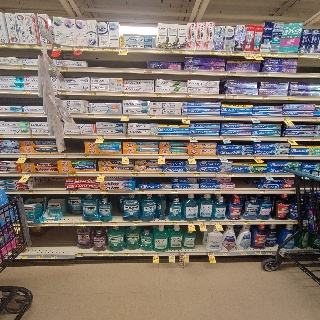All PRICE TAGS: (259, 73, 270, 77), (68, 172, 78, 176), (17, 255, 27, 259), (243, 51, 251, 56), (232, 51, 240, 56), (5, 44, 15, 48), (69, 190, 78, 194), (29, 134, 38, 138), (19, 113, 28, 117), (28, 44, 37, 48), (18, 44, 27, 48), (86, 47, 95, 51), (121, 92, 130, 96), (124, 135, 133, 139), (61, 67, 68, 72), (107, 252, 115, 256), (187, 221, 195, 225), (158, 172, 166, 176), (131, 172, 139, 176), (98, 172, 106, 176), (187, 155, 195, 159), (222, 136, 230, 140), (286, 96, 294, 100), (230, 95, 238, 99), (154, 93, 162, 97), (23, 90, 31, 94), (15, 65, 23, 69), (297, 54, 305, 58), (252, 52, 260, 56), (178, 50, 186, 54), (67, 46, 75, 50), (99, 47, 107, 51), (188, 70, 196, 74), (89, 91, 97, 95), (88, 114, 96, 118), (189, 136, 197, 140), (138, 252, 145, 256), (137, 190, 144, 194), (207, 252, 214, 256), (255, 251, 262, 255), (265, 251, 272, 255), (111, 222, 118, 226), (50, 255, 57, 259), (28, 190, 35, 194), (101, 190, 108, 194), (227, 173, 234, 177), (21, 153, 28, 157), (219, 155, 226, 159), (251, 136, 258, 140), (122, 115, 129, 119), (149, 115, 156, 119), (224, 116, 231, 120), (283, 117, 290, 121), (251, 116, 258, 120), (261, 95, 268, 99), (60, 91, 67, 95), (230, 72, 237, 76), (260, 52, 267, 56), (280, 53, 287, 57), (271, 53, 278, 57), (156, 49, 163, 53), (222, 51, 229, 55), (64, 134, 71, 138), (156, 135, 163, 139), (53, 46, 62, 49), (168, 252, 176, 255), (171, 221, 179, 224), (94, 222, 102, 225), (157, 155, 165, 158), (123, 252, 129, 256), (134, 222, 140, 226), (36, 255, 42, 259), (265, 173, 271, 177), (165, 50, 173, 53), (76, 47, 84, 50), (187, 51, 195, 54), (210, 51, 218, 54), (184, 94, 192, 97), (82, 155, 90, 158), (122, 155, 130, 158), (182, 252, 189, 255), (199, 221, 206, 224), (79, 223, 86, 226), (193, 173, 200, 176), (171, 190, 178, 193), (222, 252, 229, 255), (240, 252, 247, 255), (291, 221, 298, 224), (259, 221, 266, 224), (228, 221, 235, 224), (41, 223, 48, 226), (259, 190, 266, 193), (253, 156, 260, 159), (288, 156, 295, 159), (145, 69, 152, 72), (110, 48, 117, 51), (182, 116, 189, 119), (98, 135, 105, 138), (77, 253, 83, 256), (97, 253, 103, 256), (153, 253, 159, 256), (244, 221, 250, 224), (215, 221, 221, 224), (57, 223, 63, 226), (290, 190, 296, 193), (215, 190, 221, 193), (286, 137, 292, 140), (120, 49, 128, 51), (0, 134, 5, 137), (0, 44, 4, 47)
